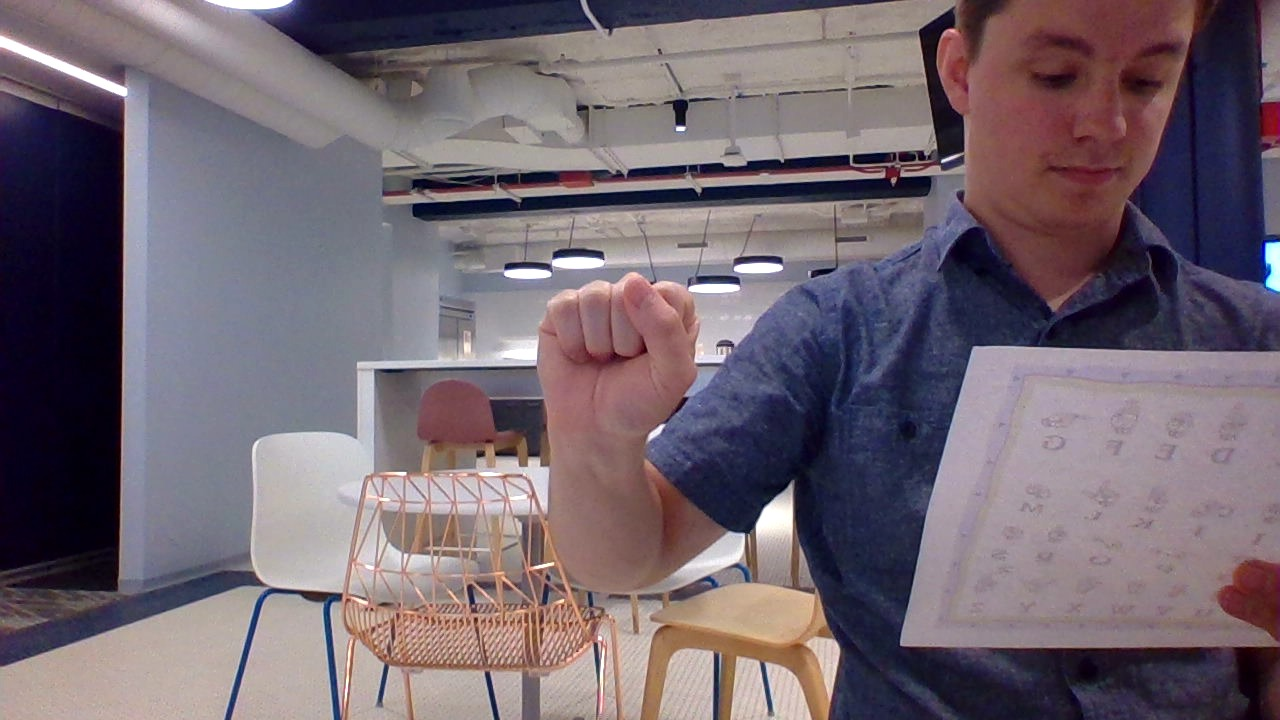s: (511, 259, 716, 449)
